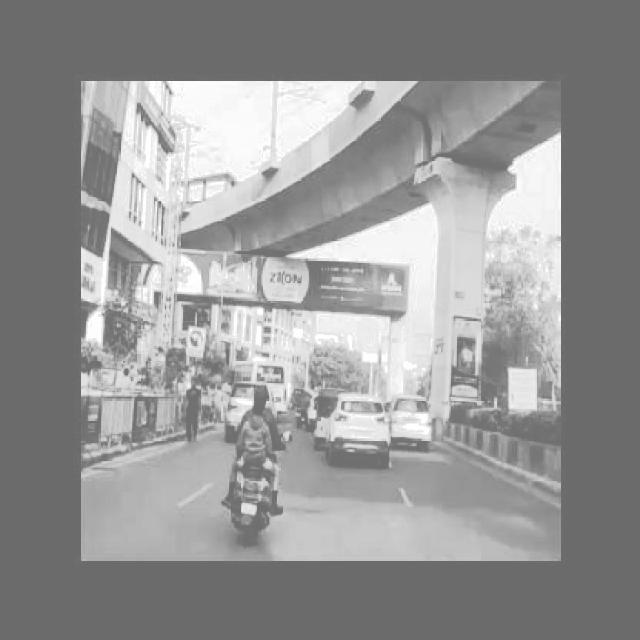Car: (330, 388, 394, 469), (392, 386, 442, 459), (226, 378, 253, 438)
